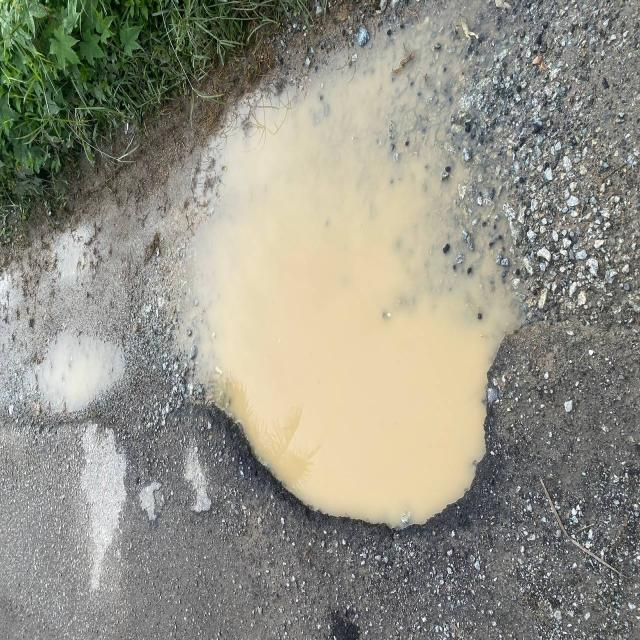pothole: (0, 267, 550, 575)
